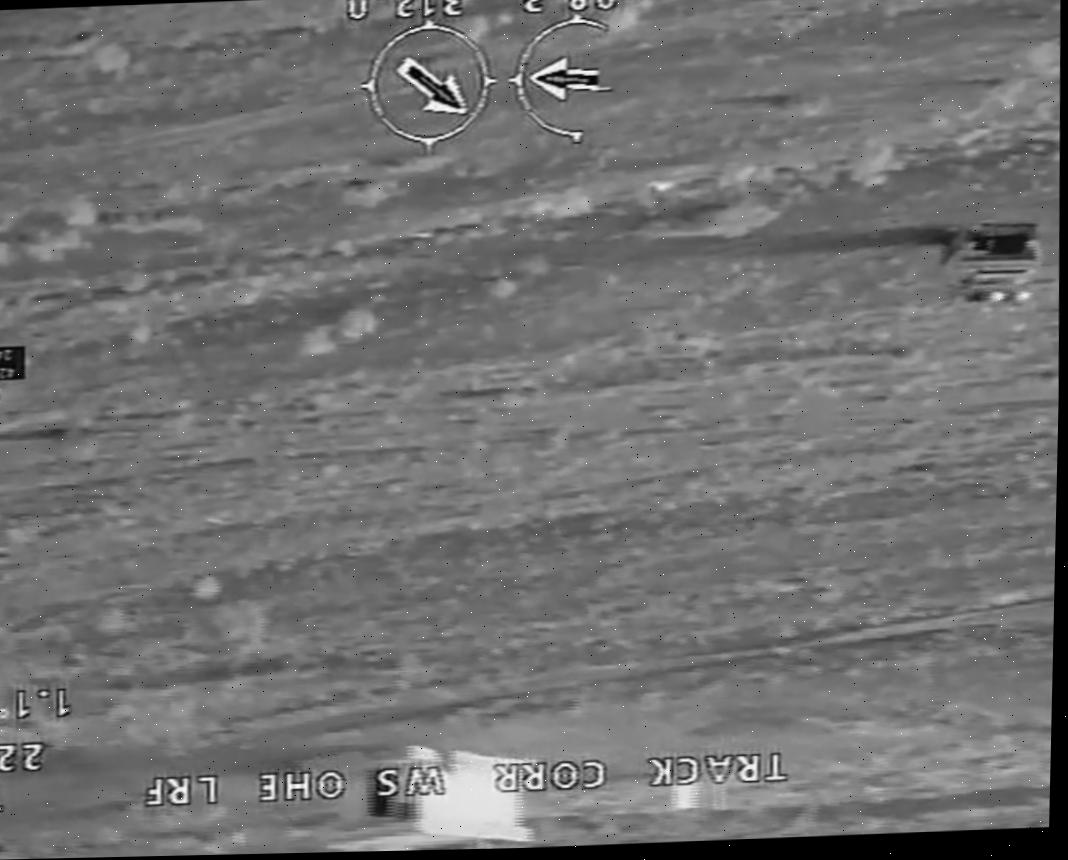armored_car: (934, 212, 1049, 321)
